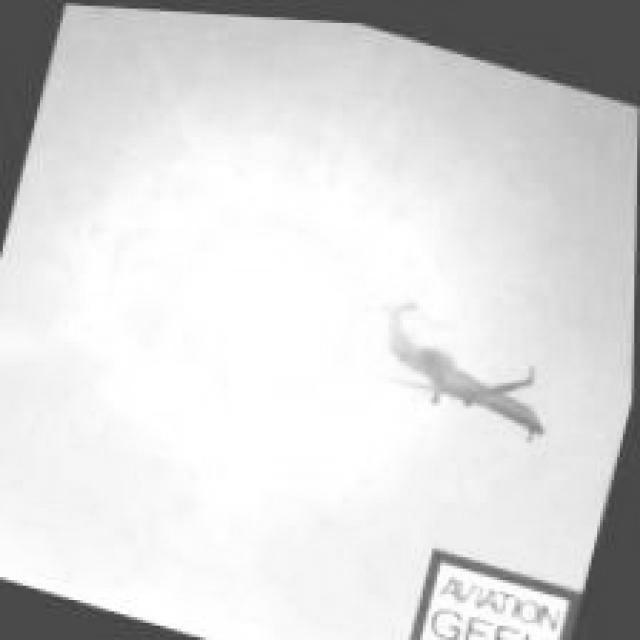aeroplane: (334, 274, 580, 449)
